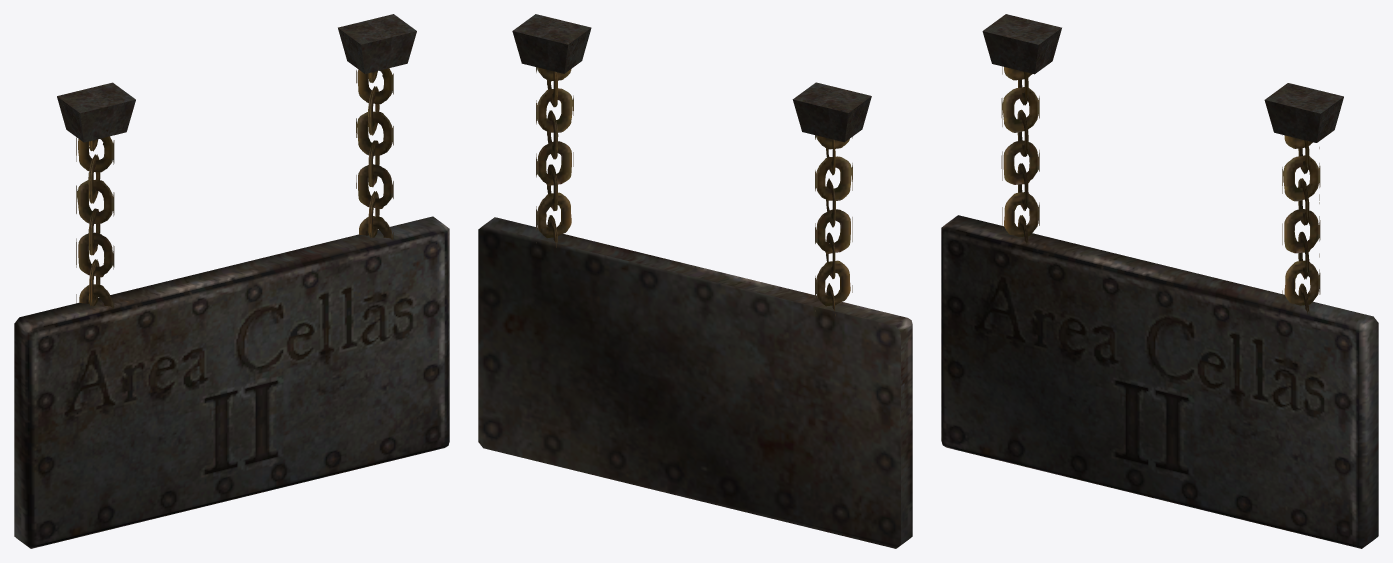
Rendered from sign_cellblock_b_chain.dae.
3 renders of one model, left to right at view 1: azimuth 30°, elevation 25°; view 2: azimuth 150°, elevation 25°; view 3: azimuth 330°, elevation 25°, orthographic.
Visible parts, largest first — view 1: polySurface1, polySurface12, polySurface13; view 2: polySurface1, polySurface12, polySurface13; view 3: polySurface1, polySurface12, polySurface13.
Part boxes in pixels (x1=…): polySurface1: x1=14, y1=216, x2=449, y2=548; polySurface12: x1=76, y1=68, x2=393, y2=308; polySurface13: x1=57, y1=14, x2=416, y2=142; polySurface1: x1=478, y1=217, x2=912, y2=548; polySurface12: x1=536, y1=67, x2=852, y2=315; polySurface13: x1=512, y1=14, x2=871, y2=142; polySurface1: x1=941, y1=215, x2=1378, y2=548; polySurface12: x1=1001, y1=66, x2=1320, y2=314; polySurface13: x1=982, y1=14, x2=1343, y2=142.
Size of the model in its own units: 1.06 by 1.02 by 0.101.
